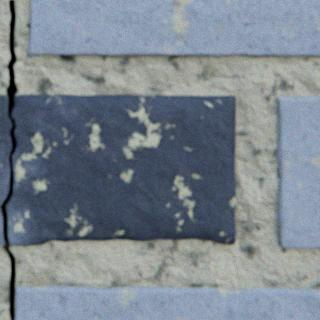brick: (28, 0, 319, 55), (15, 284, 319, 319), (275, 96, 319, 246)
broken_brick: (7, 94, 235, 244), (0, 95, 12, 203), (0, 209, 4, 242)
crack: (0, 0, 18, 319)
